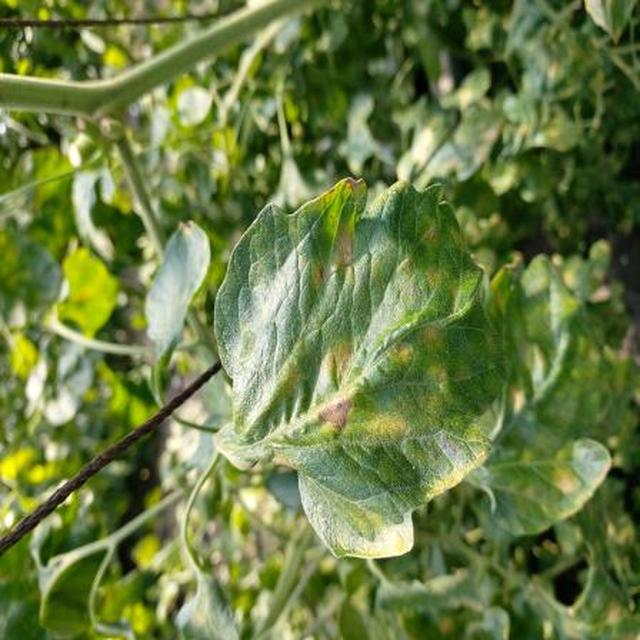Leaf Mold: (306, 250, 640, 640)
